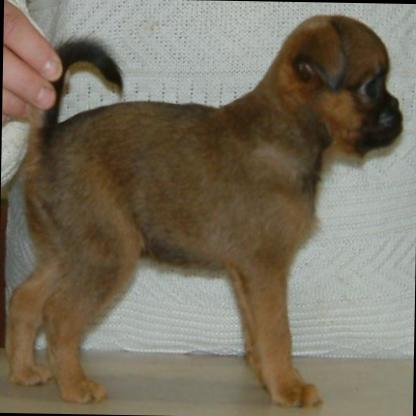Brabancon_griffon: (0, 7, 403, 405)
